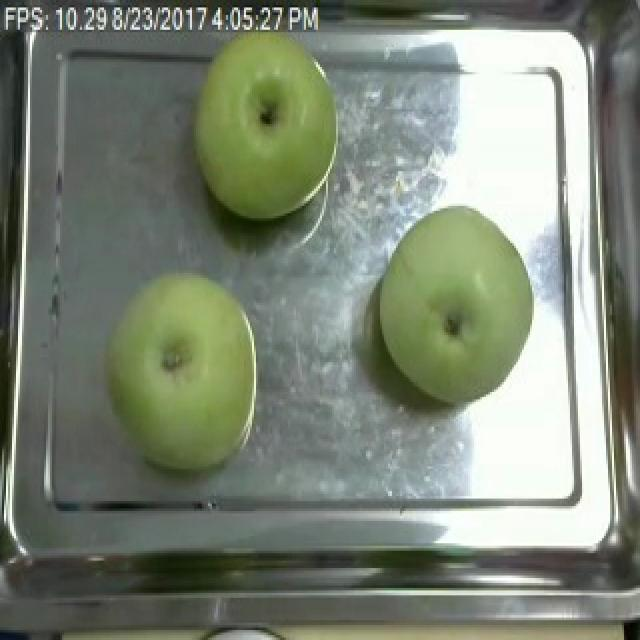50-_ripeness: (367, 191, 541, 419), (99, 262, 272, 490), (199, 17, 337, 224)
